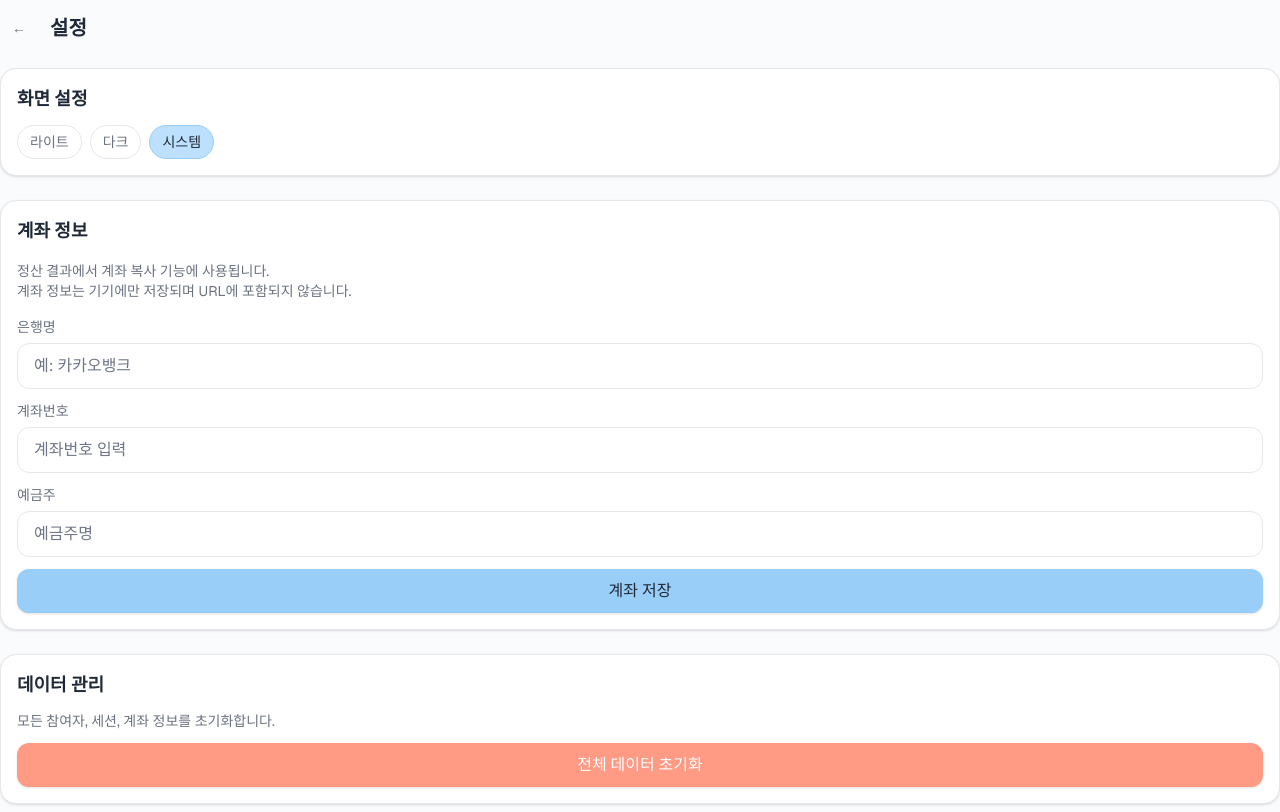
Test: SettingsPage - 계좌 정보 › 저장 성공 시 피드백 메시지
Type "카카오뱅크" into the field with placeholder "예: 카카오뱅크" at x=640, y=366, box [17,343,1263,389]
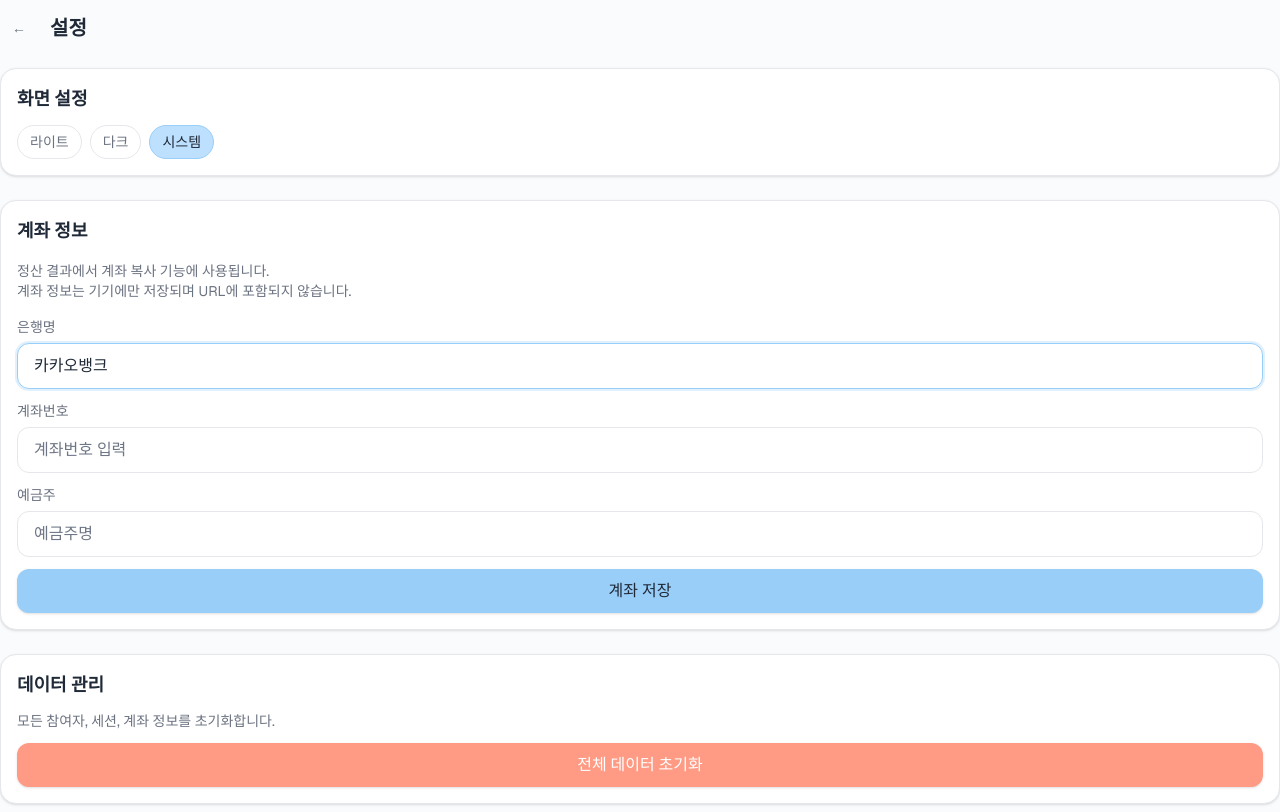
Type "1234567890" into the field with placeholder "계좌번호 입력" at x=640, y=450, box [17,427,1263,473]
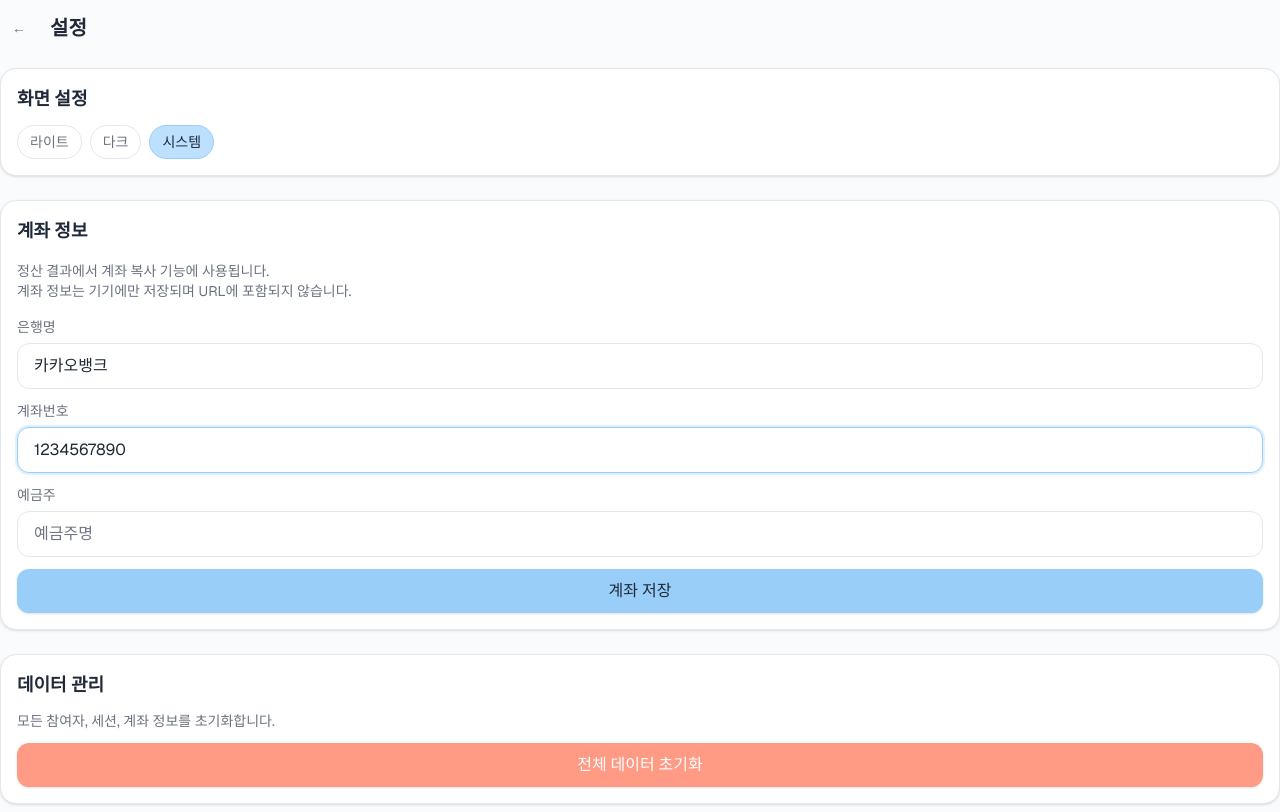
Type "홍길동" into the field with placeholder "예금주명" at x=640, y=534, box [17,511,1263,557]
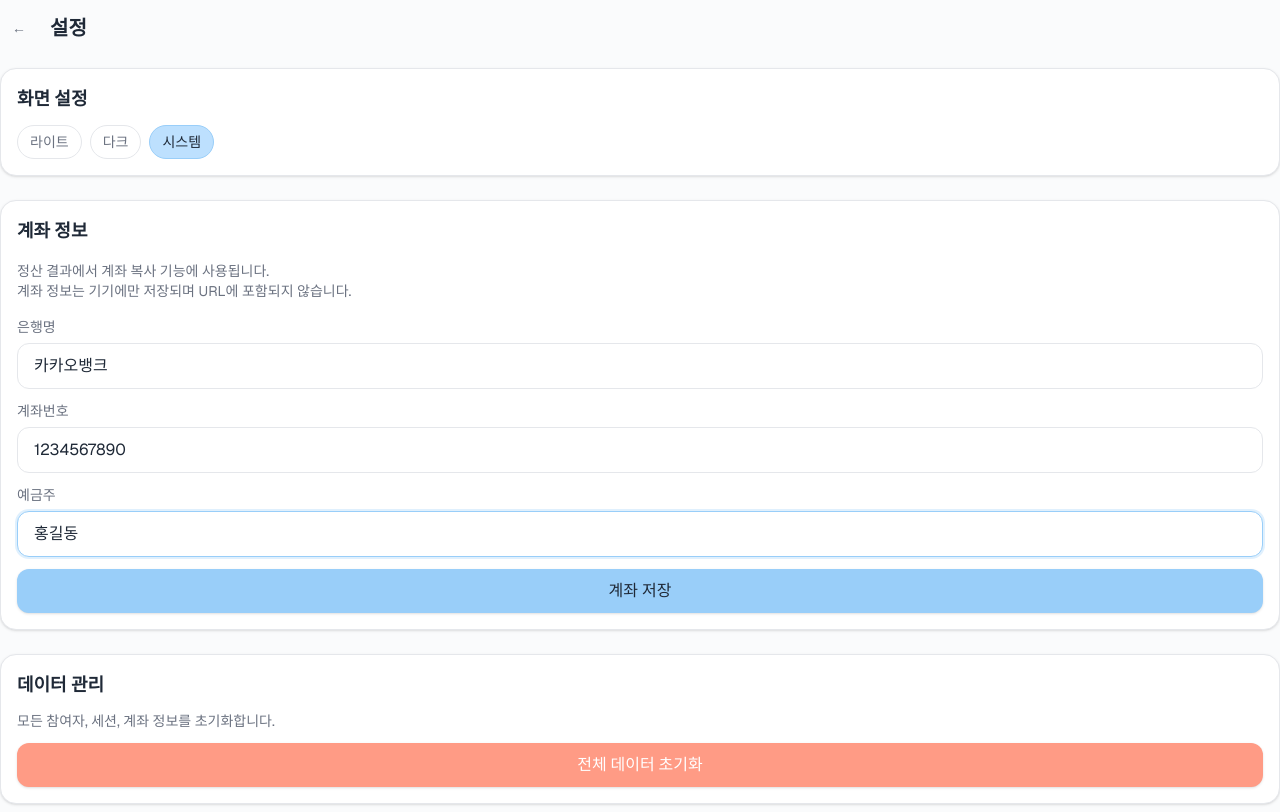
Click the button "계좌 저장" at x=640, y=591, box [17,569,1263,613]
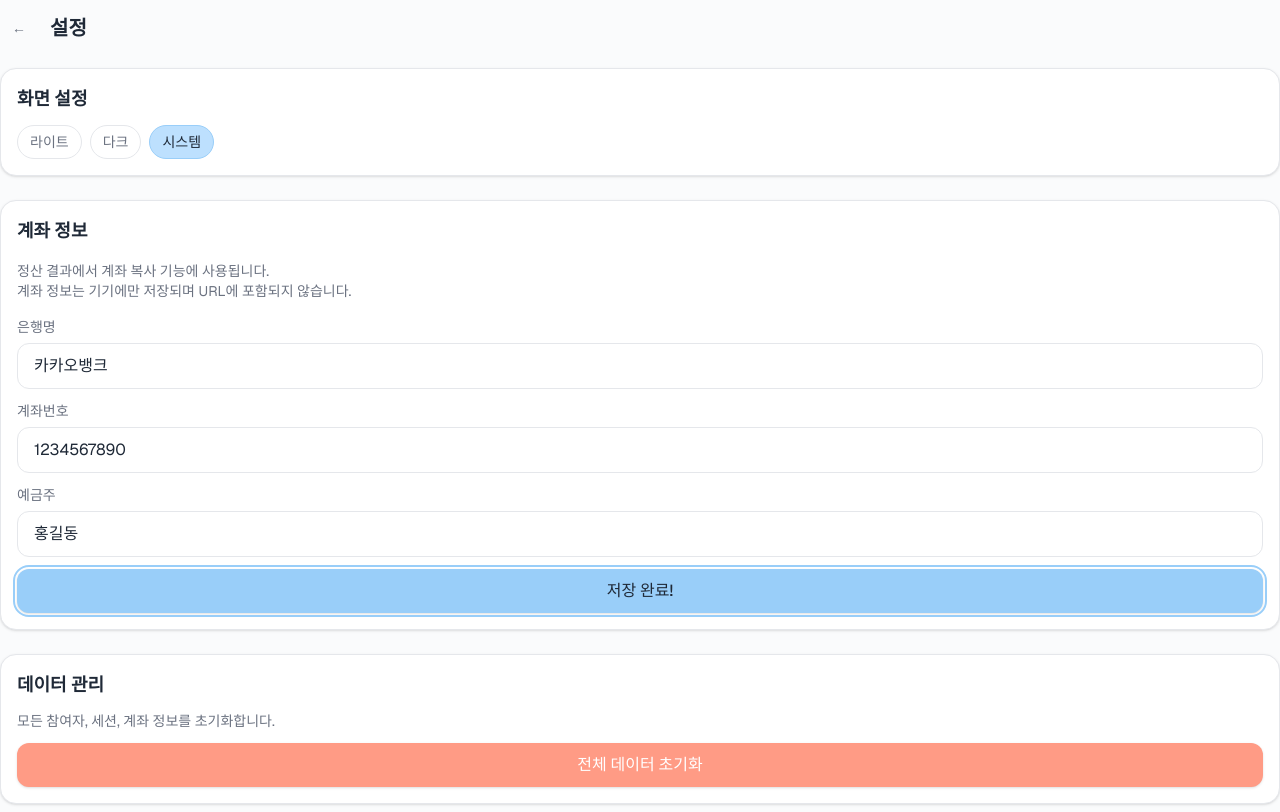
Now the button "저장 완료!" is shown, box [17,569,1263,613]
